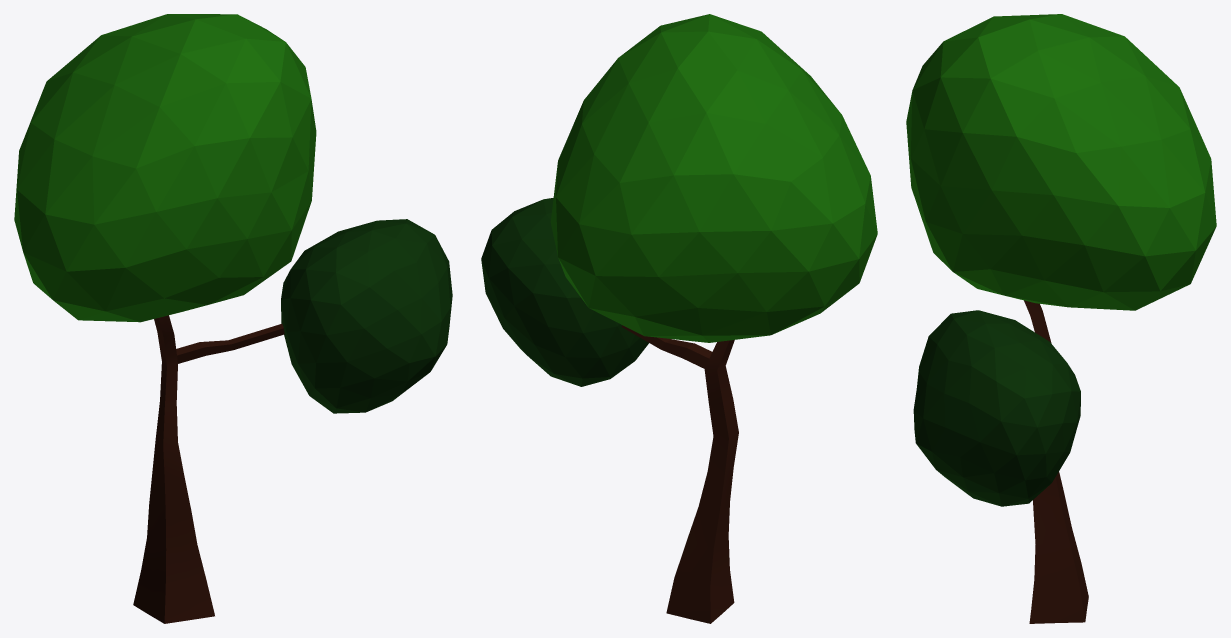
Rendered from ArbolLOD0.FBX.
The picture shows the model from 3 angles, left to right: view 1: azimuth 30°, elevation 25°; view 2: azimuth 150°, elevation 25°; view 3: azimuth 270°, elevation 25°; orthographic projection. The views are drawn at different scales.
Visible parts, largest first — view 1: GeoSphere005, GeoSphere006, Box004; view 2: GeoSphere005, GeoSphere006, Box004; view 3: GeoSphere005, GeoSphere006, Box004.
Boxes of the visible parts, box(x1,y1,x2,y2) form: GeoSphere005: box(14, 14, 316, 322); GeoSphere006: box(281, 219, 452, 413); Box004: box(133, 315, 284, 623); GeoSphere005: box(550, 14, 877, 342); GeoSphere006: box(481, 198, 648, 386); Box004: box(621, 325, 738, 623); GeoSphere005: box(906, 14, 1216, 310); GeoSphere006: box(913, 310, 1080, 506); Box004: box(1024, 300, 1088, 623).
Bounding box in the file's own units: 58.41 × 82.81 × 39.15.
